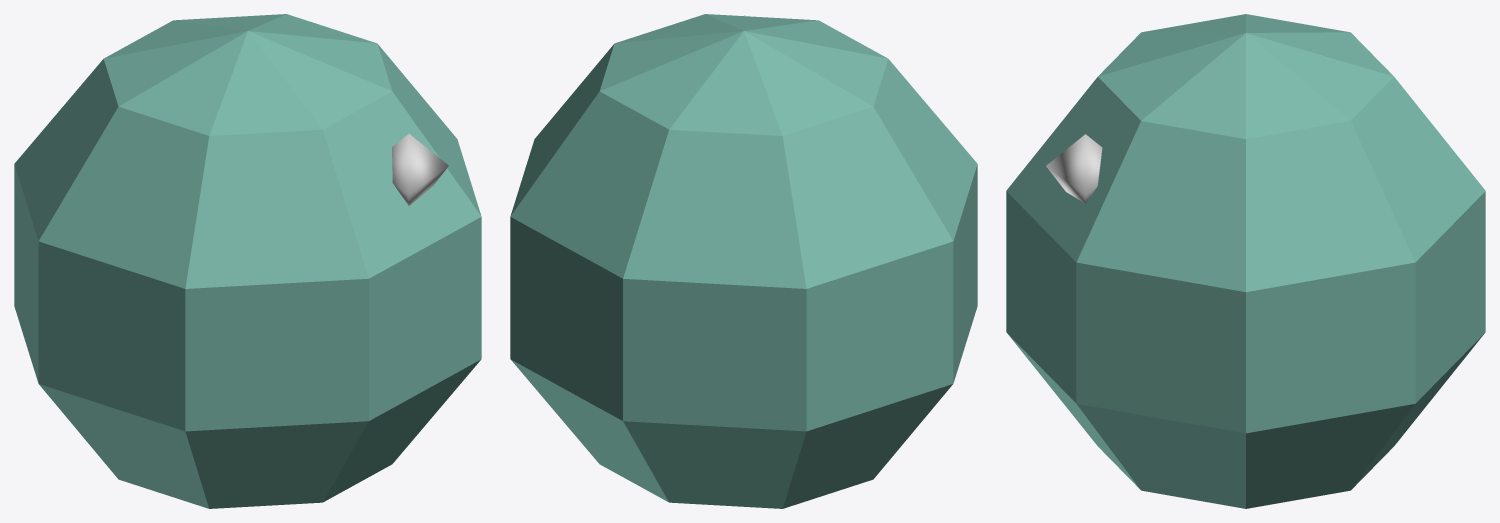
File: col_glass_bead.gltf
3 renders of one model, left to right at view 1: azimuth 30°, elevation 25°; view 2: azimuth 150°, elevation 25°; view 3: azimuth 270°, elevation 25°, orthographic.
Parts seen in each view (by area): view 1: col_glass_bead; view 2: col_glass_bead; view 3: col_glass_bead.
Boxes of the visible parts, x1,y1,x2,y2 form: col_glass_bead: [14, 14, 481, 508]; col_glass_bead: [510, 14, 977, 508]; col_glass_bead: [1006, 14, 1485, 508].
Size of what is drawn, in the model's own units: 0.0418 by 0.044 by 0.0418.
